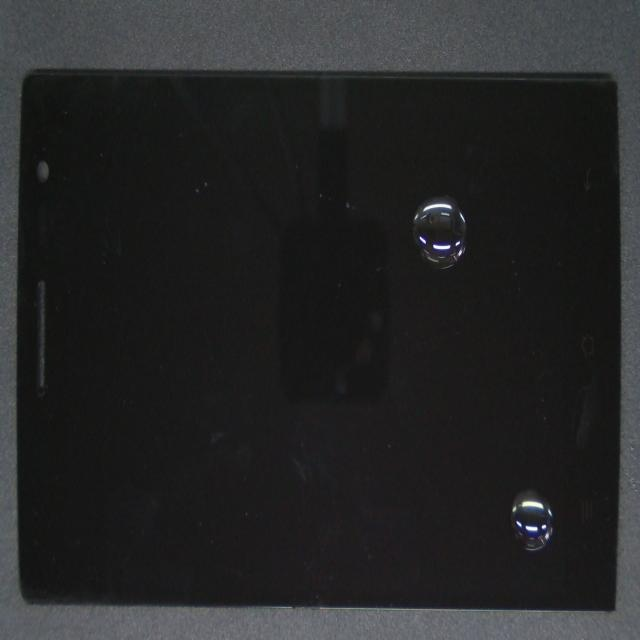oil: (273, 237, 640, 640), (250, 111, 640, 312)
